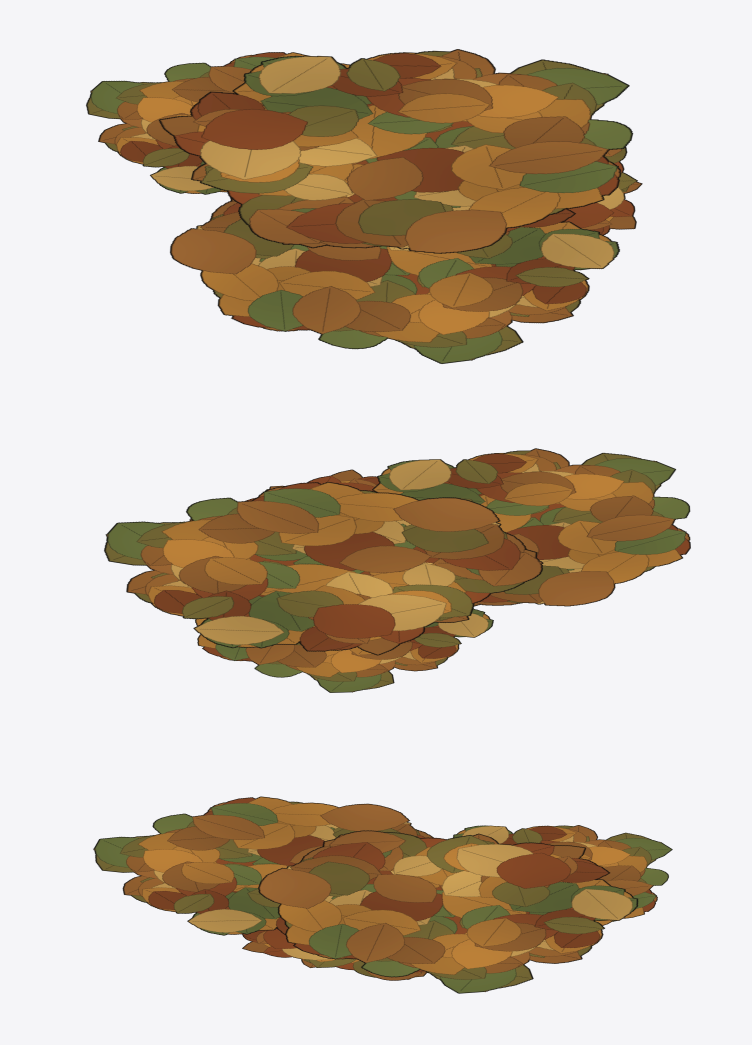
File: prop_forest_litter_a.glb
The picture shows the model from 3 angles, top to bottom: view 1: azimuth 30°, elevation 25°; view 2: azimuth 150°, elevation 25°; view 3: azimuth 270°, elevation 25°; orthographic projection. The views are drawn at different scales.
Parts seen in each view (by area): view 1: forest_litter_broadleaf; view 2: forest_litter_broadleaf; view 3: forest_litter_broadleaf.
Boxes of the visible parts, x1,y1,x2,y2 form: forest_litter_broadleaf: (86,49,642,363); forest_litter_broadleaf: (104,448,690,692); forest_litter_broadleaf: (93,796,672,993).
Size of the model in its own units: 2.51 by 0.024 by 2.72.
1 material, 1 textured.
